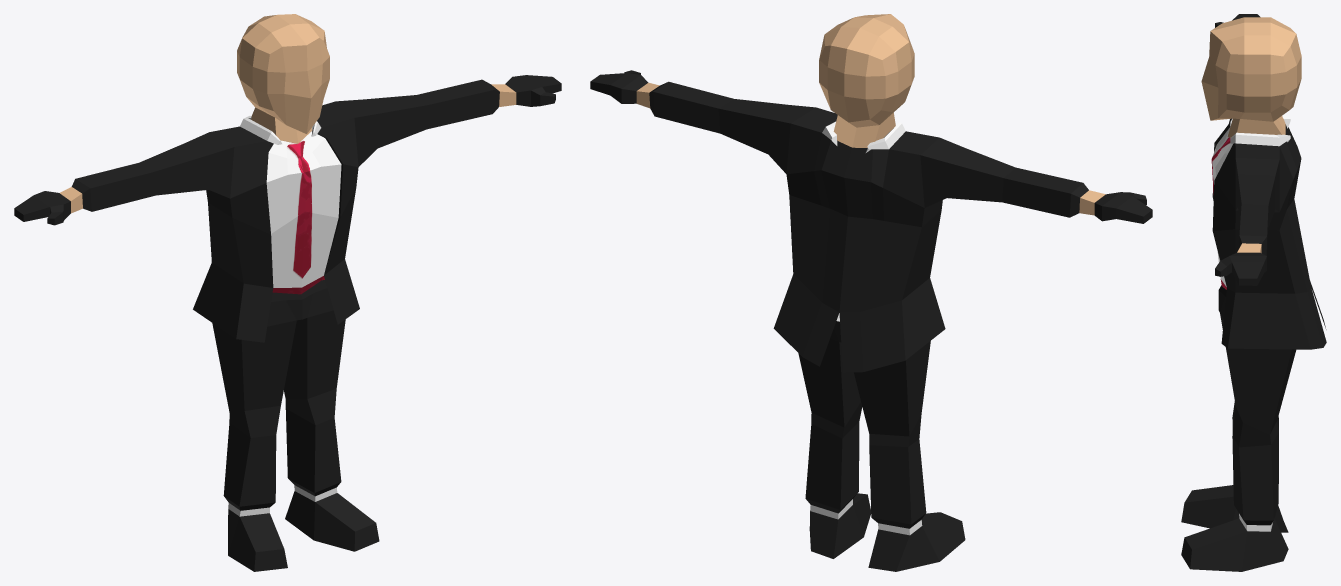
Rendered from player_clothed.obj.
3 views of the same model, side by side, from view 1: azimuth 30°, elevation 25°; view 2: azimuth 150°, elevation 25°; view 3: azimuth 270°, elevation 25° (orthographic). The views are drawn at different scales.
Parts seen in each view (by area): view 1: Body_Cube; view 2: Body_Cube; view 3: Body_Cube.
Boxes of the visible parts, left/top/right/bottom form: Body_Cube: left=14, top=14, right=561, bottom=571; Body_Cube: left=590, top=14, right=1152, bottom=571; Body_Cube: left=1181, top=14, right=1326, bottom=571.
Size of the model in its own units: 14.5 by 13.24 by 3.37.
1 material, 1 textured.
